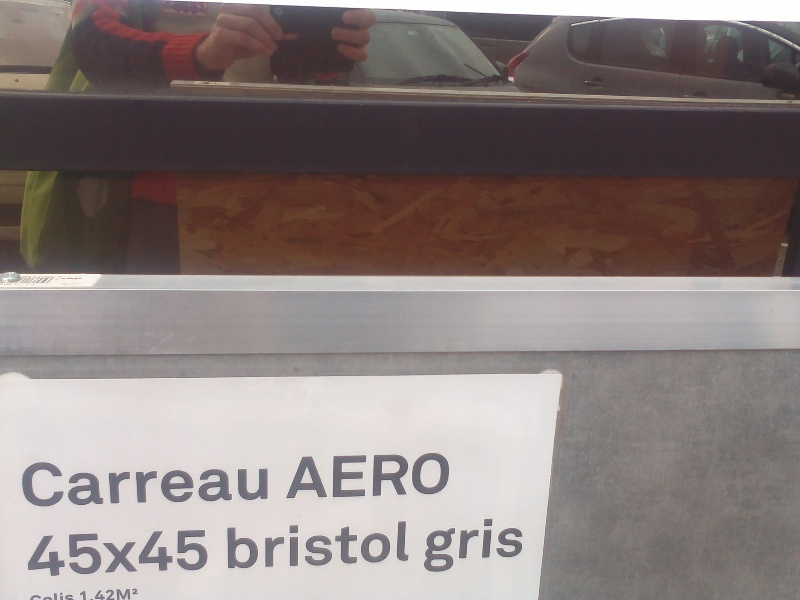text: (433, 518, 448, 573), (449, 518, 464, 573), (465, 518, 480, 573), (481, 518, 496, 573), (497, 518, 512, 573), (33, 461, 48, 510), (49, 461, 64, 510), (65, 461, 80, 510), (81, 461, 96, 510), (97, 461, 112, 510), (113, 461, 128, 510), (129, 461, 144, 510), (145, 461, 160, 510), (161, 461, 176, 510), (177, 461, 192, 510), (193, 461, 208, 510), (209, 461, 224, 510), (225, 461, 240, 510), (241, 461, 256, 510), (241, 520, 256, 569), (257, 520, 272, 569), (273, 520, 288, 569), (289, 520, 304, 569), (305, 520, 320, 569), (321, 520, 336, 569), (337, 520, 352, 569), (353, 520, 368, 569), (369, 520, 384, 569), (385, 520, 400, 569), (305, 451, 320, 499), (321, 451, 336, 499), (337, 451, 352, 499), (353, 451, 368, 499), (369, 451, 384, 499), (385, 451, 400, 499), (401, 451, 416, 499), (417, 451, 432, 499), (433, 451, 448, 499), (33, 529, 48, 577), (49, 529, 64, 577), (65, 529, 80, 577), (81, 529, 96, 577), (97, 529, 112, 577), (113, 529, 128, 577), (129, 529, 144, 577), (145, 529, 160, 577), (161, 529, 176, 577), (177, 529, 192, 577), (193, 529, 208, 577), (226, 520, 240, 569), (513, 518, 524, 573), (20, 461, 32, 510), (257, 461, 269, 510), (401, 520, 411, 569), (28, 529, 32, 577), (429, 518, 432, 573), (81, 589, 96, 600), (97, 589, 112, 600), (113, 589, 128, 600), (449, 451, 452, 499), (129, 589, 142, 600), (33, 593, 48, 600), (49, 593, 64, 600), (302, 451, 304, 499), (65, 593, 75, 600), (209, 529, 210, 577), (65, 283, 80, 285), (29, 593, 32, 600), (79, 589, 80, 600), (60, 283, 64, 285)
